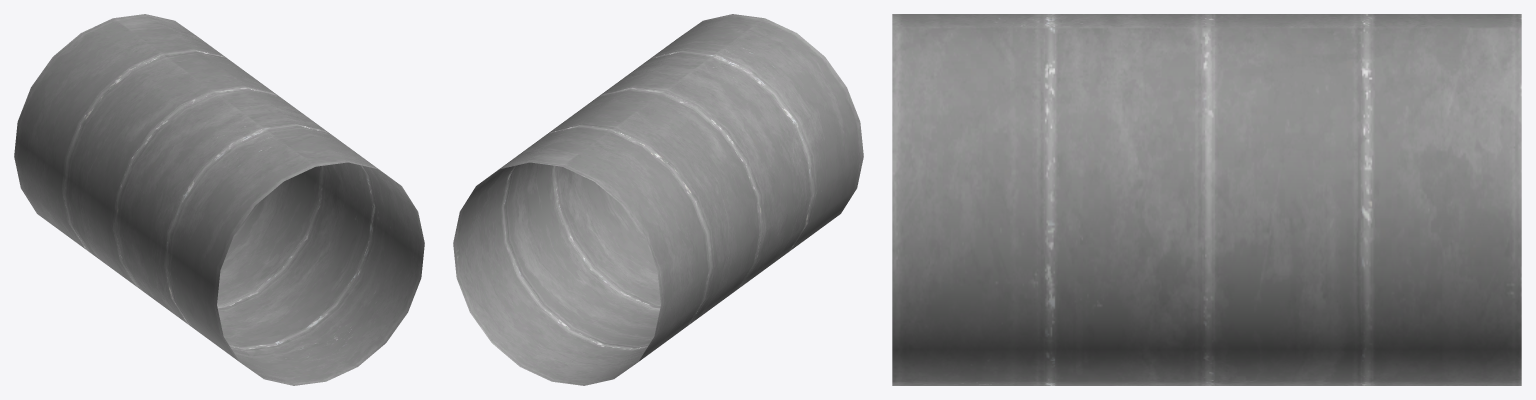
The model's file is SM_Air_Vent_01g.glb.
3 renders of one model, left to right at view 1: azimuth 30°, elevation 25°; view 2: azimuth 150°, elevation 25°; view 3: azimuth 270°, elevation 25°, orthographic. The views are drawn at different scales.
Parts seen in each view (by area): view 1: SM_Air_Vent_01g; view 2: SM_Air_Vent_01g; view 3: SM_Air_Vent_01g.
Boxes of the visible parts, x1,y1,x2,y2 form: SM_Air_Vent_01g: (14,14,424,385); SM_Air_Vent_01g: (453,14,863,385); SM_Air_Vent_01g: (892,14,1521,385).
Size of the model in its own units: 0.5916 by 0.5916 by 1.
1 material, 1 textured.
